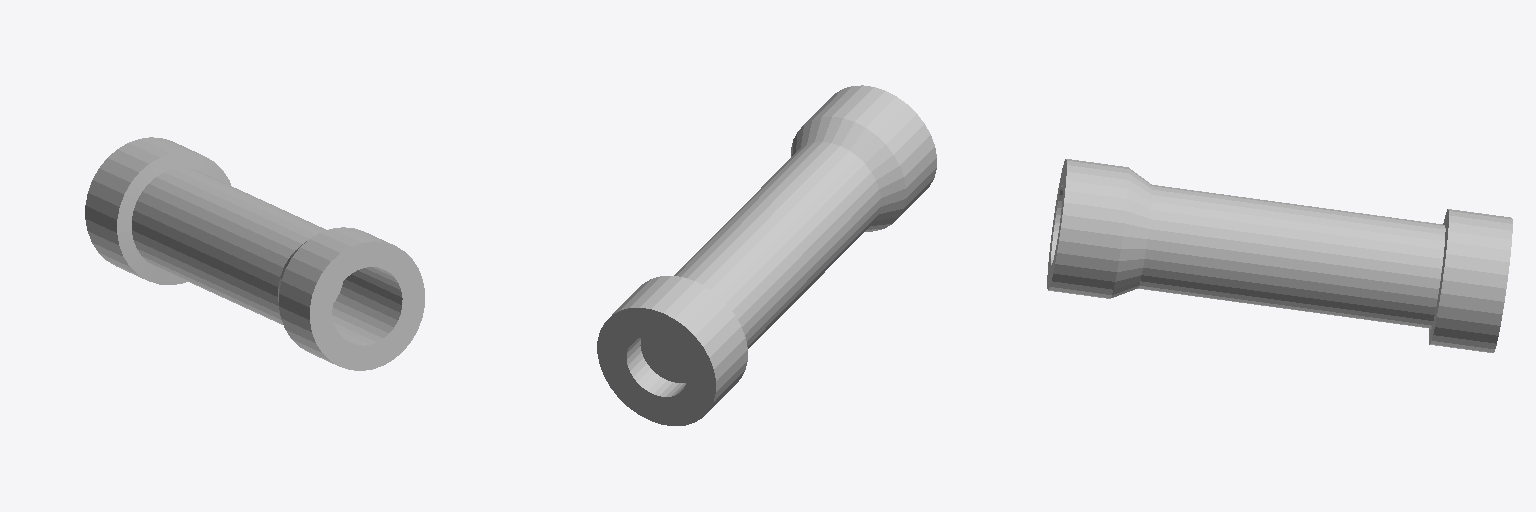
File: Bazooka.obj
3 renders of one model, left to right at view 1: azimuth 30°, elevation 25°; view 2: azimuth 150°, elevation 25°; view 3: azimuth 270°, elevation 25°, orthographic.
Visible parts, largest first — view 1: Cylinder; view 2: Cylinder; view 3: Cylinder.
Boxes of the visible parts, box(x1,y1,x2,y2) form: Cylinder: box(85, 137, 424, 370); Cylinder: box(597, 85, 936, 425); Cylinder: box(1047, 159, 1512, 352).
Size of the model in its own units: 1.29 by 1.89 by 4.38.